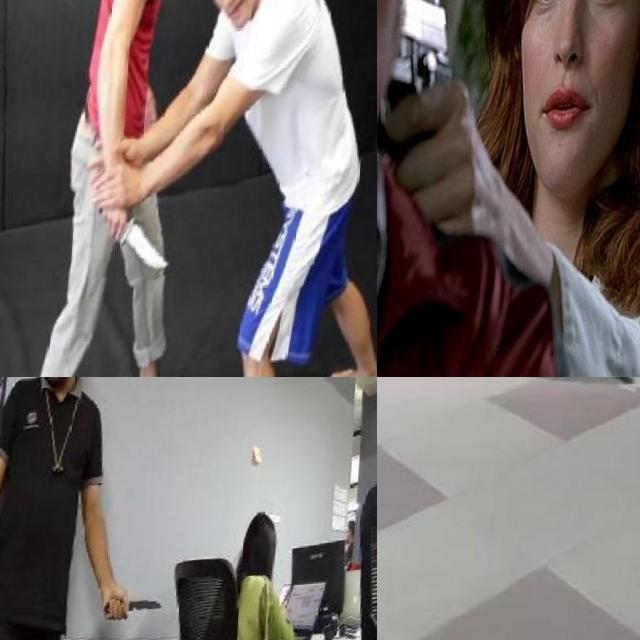-: (377, 377, 640, 441), (96, 190, 190, 284), (110, 592, 170, 640)
gun-knife-thesis - v11 Yolov5 augmented: (377, 0, 487, 158)
